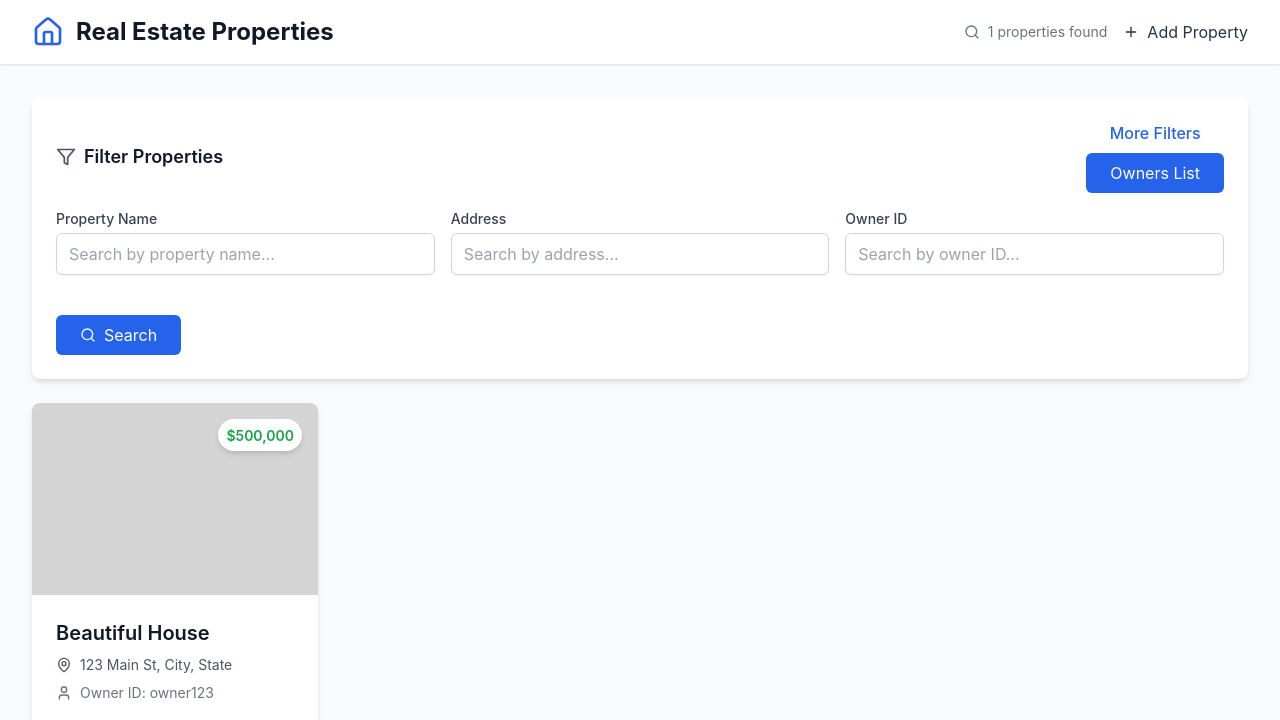
Test: Accessibility E2E Tests › should have accessible form labels
Expected: the text "Property Name" is shown, [56,210,157,227]
Expected: the text "Address" is shown, [451,210,506,227]
Step 1. Click the button "More Filters" → (1155, 133), box [1086,121,1224,145]
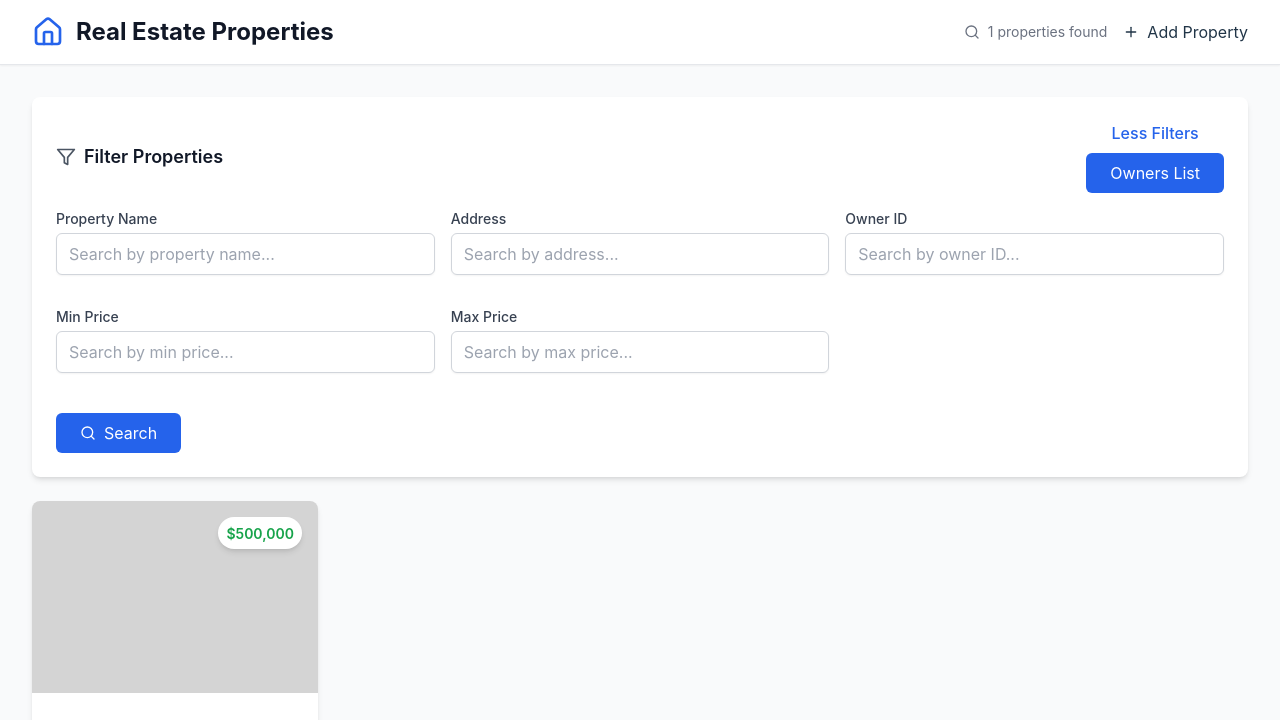
Now the text "Min Price" is shown, box [56,308,119,325]
Now the text "Max Price" is shown, box [451,308,517,325]
